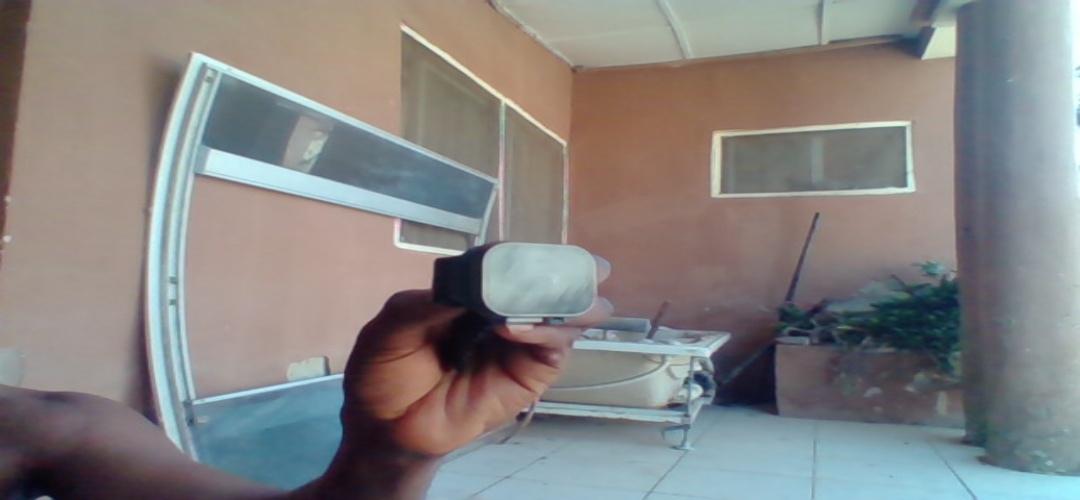smart_watch: (431, 240, 603, 327)
